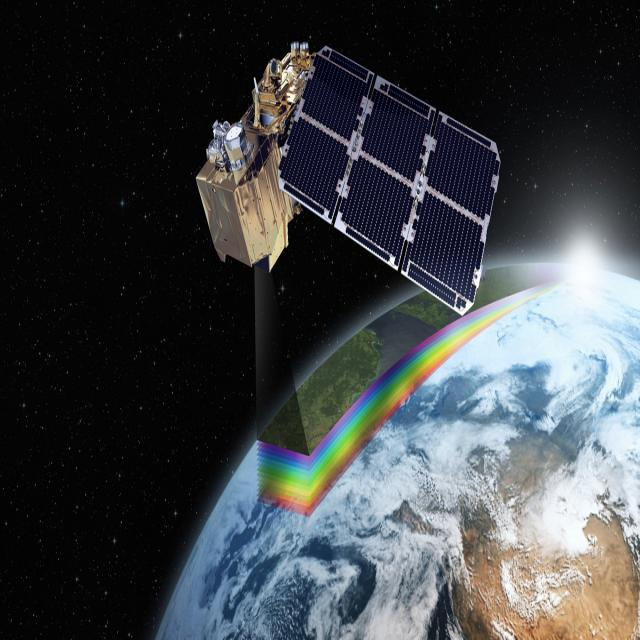medium_debris: (176, 0, 512, 343)
